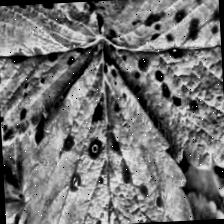Leaf Spot: (6, 38, 195, 224), (84, 0, 224, 177), (0, 0, 108, 146), (0, 102, 65, 203)
